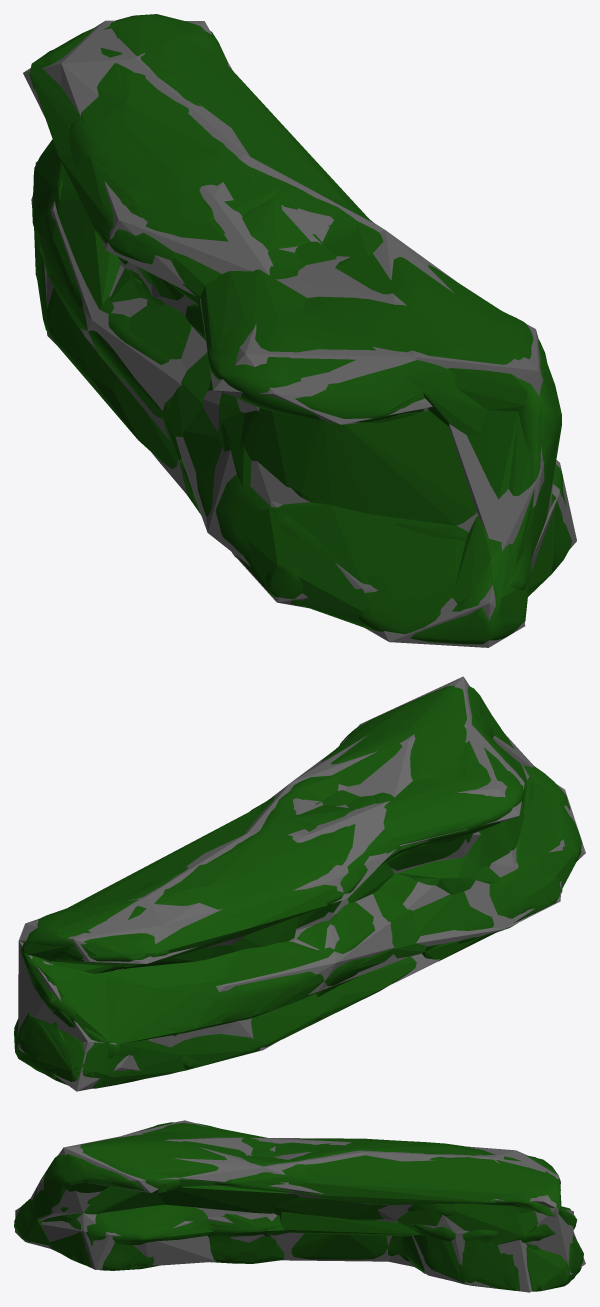
File: Cliff_bereg_04.fbx
The picture shows the model from 3 angles, top to bottom: view 1: azimuth 30°, elevation 25°; view 2: azimuth 150°, elevation 25°; view 3: azimuth 270°, elevation 25°; orthographic projection. The views are drawn at different scales.
Parts seen in each view (by area): view 1: Cliff_bereg_04_LOD0, Cliff_bereg_04_COL, Cliff_bereg_04_COL00, Cliff_bereg_04_COL21, Cliff_bereg_04_COL18, Cliff_bereg_04_COL07, Cliff_bereg_04_COL06, Cliff_bereg_04_COL15, Cliff_bereg_04_COL20, Cliff_bereg_04_COL19, Cliff_bereg_04_COL23, Cliff_bereg_04_COL08 (+7 smaller); view 2: Cliff_bereg_04_LOD0, Cliff_bereg_04_COL, Cliff_bereg_04_COL00, Cliff_bereg_04_COL15, Cliff_bereg_04_COL14, Cliff_bereg_04_COL18, Cliff_bereg_04_COL07, Cliff_bereg_04_COL06, Cliff_bereg_04_COL20, Cliff_bereg_04_COL12, Cliff_bereg_04_COL10, Cliff_bereg_04_COL21 (+10 smaller); view 3: Cliff_bereg_04_LOD0, Cliff_bereg_04_COL, Cliff_bereg_04_COL00, Cliff_bereg_04_COL07, Cliff_bereg_04_COL14, Cliff_bereg_04_COL13, Cliff_bereg_04_COL26, Cliff_bereg_04_COL17, Cliff_bereg_04_COL15, Cliff_bereg_04_COL22, Cliff_bereg_04_COL10, Cliff_bereg_04_COL27 (+11 smaller).
Boxes of the visible parts, left/top/right/bottom form: Cliff_bereg_04_LOD0: left=29, top=14, right=571, bottom=644; Cliff_bereg_04_COL: left=23, top=20, right=576, bottom=647; Cliff_bereg_04_COL00: left=30, top=16, right=361, bottom=252; Cliff_bereg_04_COL21: left=240, top=408, right=547, bottom=548; Cliff_bereg_04_COL18: left=179, top=407, right=566, bottom=642; Cliff_bereg_04_COL07: left=303, top=253, right=561, bottom=415; Cliff_bereg_04_COL06: left=200, top=266, right=553, bottom=422; Cliff_bereg_04_COL15: left=32, top=143, right=120, bottom=355; Cliff_bereg_04_COL20: left=52, top=295, right=552, bottom=596; Cliff_bereg_04_COL19: left=448, top=516, right=531, bottom=637; Cliff_bereg_04_COL23: left=94, top=268, right=191, bottom=418; Cliff_bereg_04_COL08: left=405, top=365, right=486, bottom=434; Cliff_bereg_04_LOD0: left=14, top=685, right=581, bottom=1088; Cliff_bereg_04_COL: left=18, top=676, right=585, bottom=1091; Cliff_bereg_04_COL00: left=55, top=806, right=358, bottom=964; Cliff_bereg_04_COL15: left=95, top=941, right=333, bottom=1043; Cliff_bereg_04_COL14: left=14, top=1012, right=266, bottom=1088; Cliff_bereg_04_COL18: left=412, top=781, right=578, bottom=961; Cliff_bereg_04_COL07: left=321, top=686, right=483, bottom=786; Cliff_bereg_04_COL06: left=346, top=727, right=508, bottom=844; Cliff_bereg_04_COL20: left=256, top=956, right=416, bottom=1044; Cliff_bereg_04_COL12: left=20, top=951, right=109, bottom=1048; Cliff_bereg_04_COL10: left=49, top=916, right=298, bottom=973; Cliff_bereg_04_COL21: left=467, top=702, right=526, bottom=870; Cliff_bereg_04_LOD0: left=14, top=1122, right=583, bottom=1291; Cliff_bereg_04_COL: left=15, top=1120, right=585, bottom=1292; Cliff_bereg_04_COL00: left=304, top=1138, right=560, bottom=1204; Cliff_bereg_04_COL07: left=56, top=1133, right=245, bottom=1186; Cliff_bereg_04_COL14: left=401, top=1235, right=583, bottom=1291; Cliff_bereg_04_COL13: left=396, top=1203, right=538, bottom=1245; Cliff_bereg_04_COL26: left=158, top=1185, right=300, bottom=1215; Cliff_bereg_04_COL17: left=291, top=1233, right=388, bottom=1259; Cliff_bereg_04_COL15: left=280, top=1212, right=420, bottom=1236; Cliff_bereg_04_COL22: left=68, top=1204, right=213, bottom=1245; Cliff_bereg_04_COL10: left=273, top=1196, right=388, bottom=1220; Cliff_bereg_04_COL27: left=42, top=1186, right=164, bottom=1221.
Size of what is drawn, in the model's own units: 1104 by 2966 by 654.
